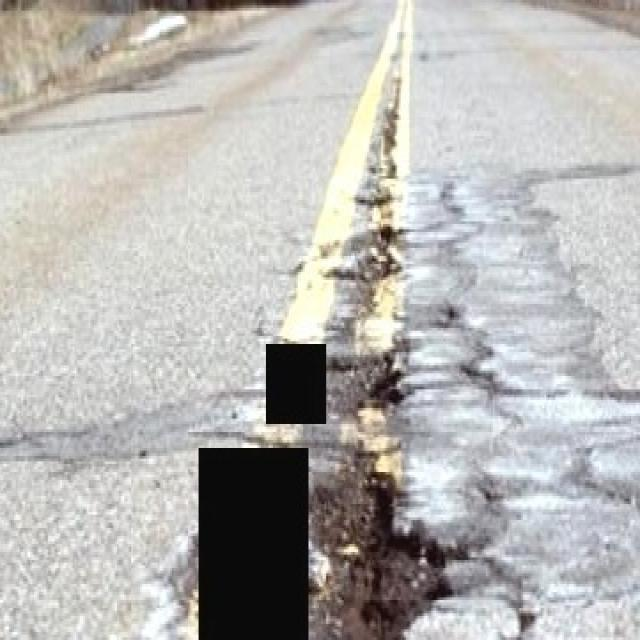road-pothole: (314, 461, 456, 637), (328, 326, 404, 427)
